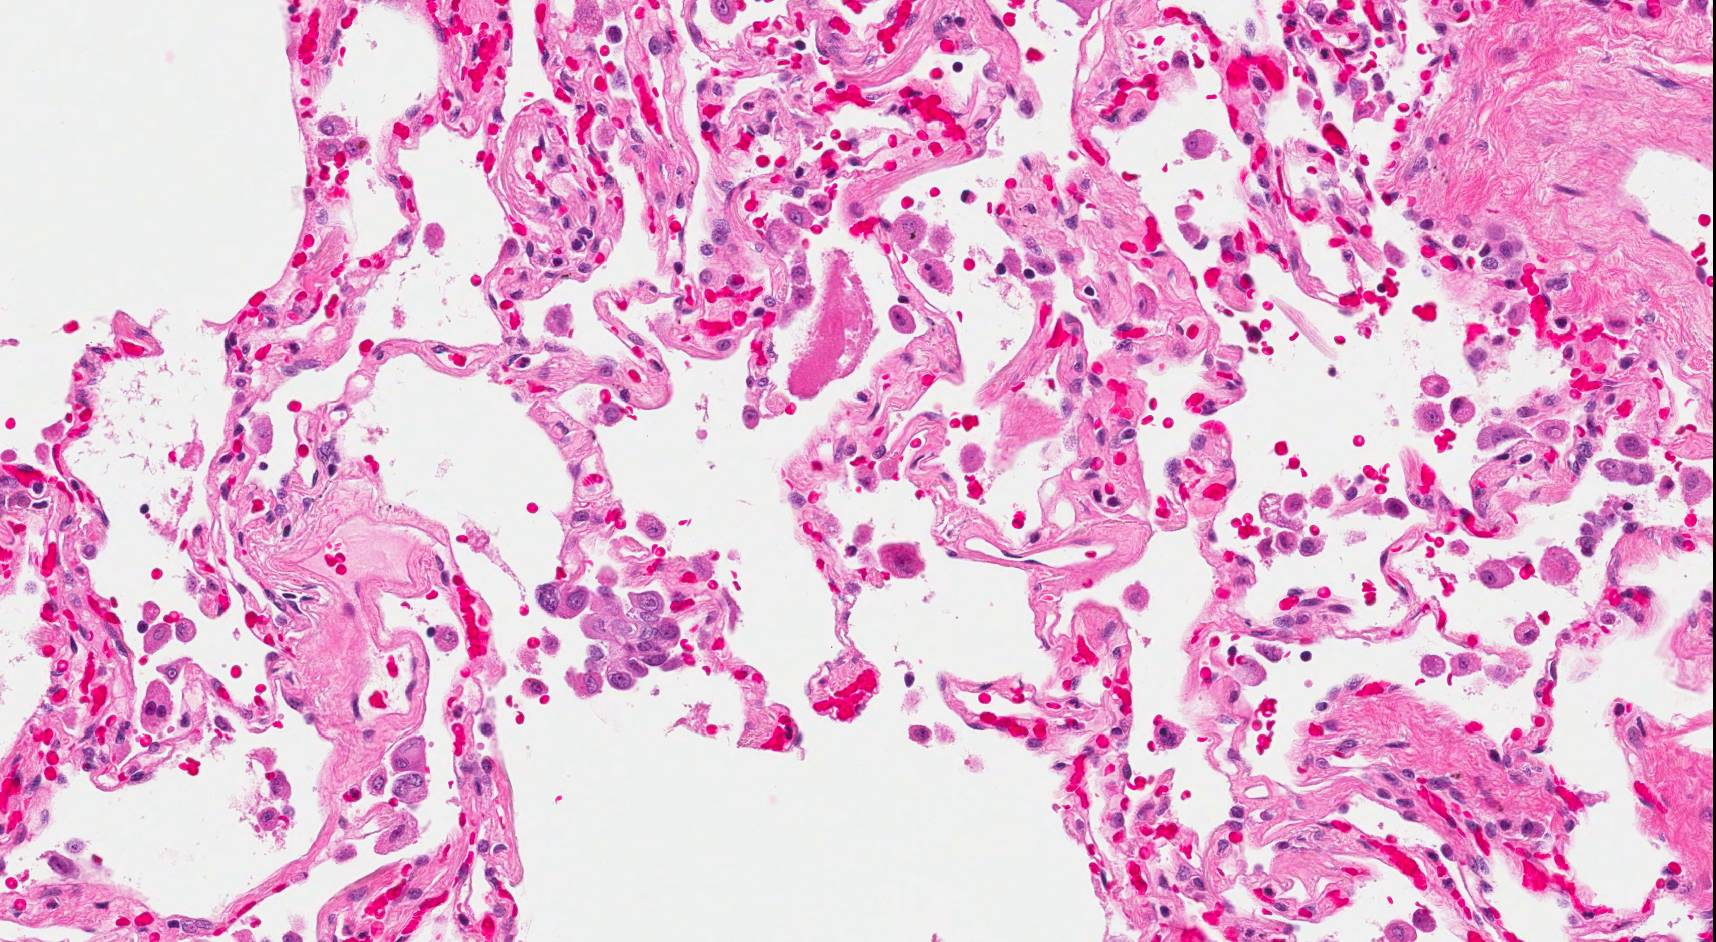stas: (532, 577, 683, 696), (366, 736, 432, 809)
